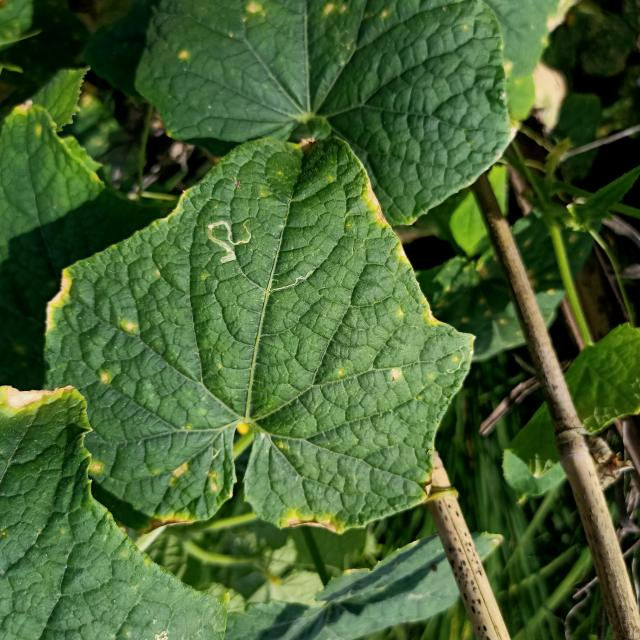disease_cucumber: (168, 454, 226, 496), (395, 304, 446, 326), (121, 321, 137, 335), (389, 364, 402, 381), (98, 370, 110, 384)
